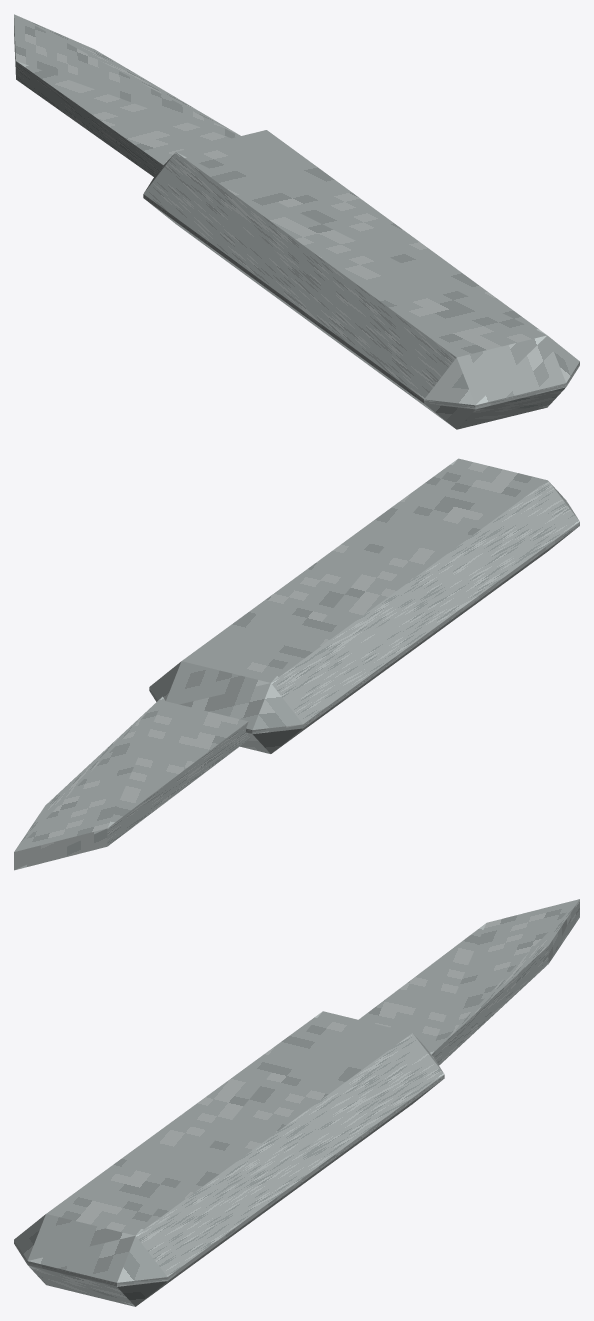
Rendered from scalpel.glb.
The picture shows the model from 3 angles, top to bottom: view 1: azimuth 30°, elevation 25°; view 2: azimuth 150°, elevation 25°; view 3: azimuth 330°, elevation 25°; orthographic projection.
Parts seen in each view (by area): view 1: block_hand grip, block_scalpel head; view 2: block_hand grip, block_scalpel head; view 3: block_hand grip, block_scalpel head.
Part boxes in pixels (x1=…): block_hand grip: x1=143, y1=130, x2=579, y2=429; block_scalpel head: x1=14, y1=14, x2=240, y2=176; block_hand grip: x1=149, y1=458, x2=579, y2=753; block_scalpel head: x1=14, y1=696, x2=250, y2=870; block_hand grip: x1=14, y1=1011, x2=444, y2=1306; block_scalpel head: x1=358, y1=899, x2=579, y2=1065.
Bounding box in the file's own units: 0.0229 × 0.0101 × 0.13.
1 material, 1 textured.
